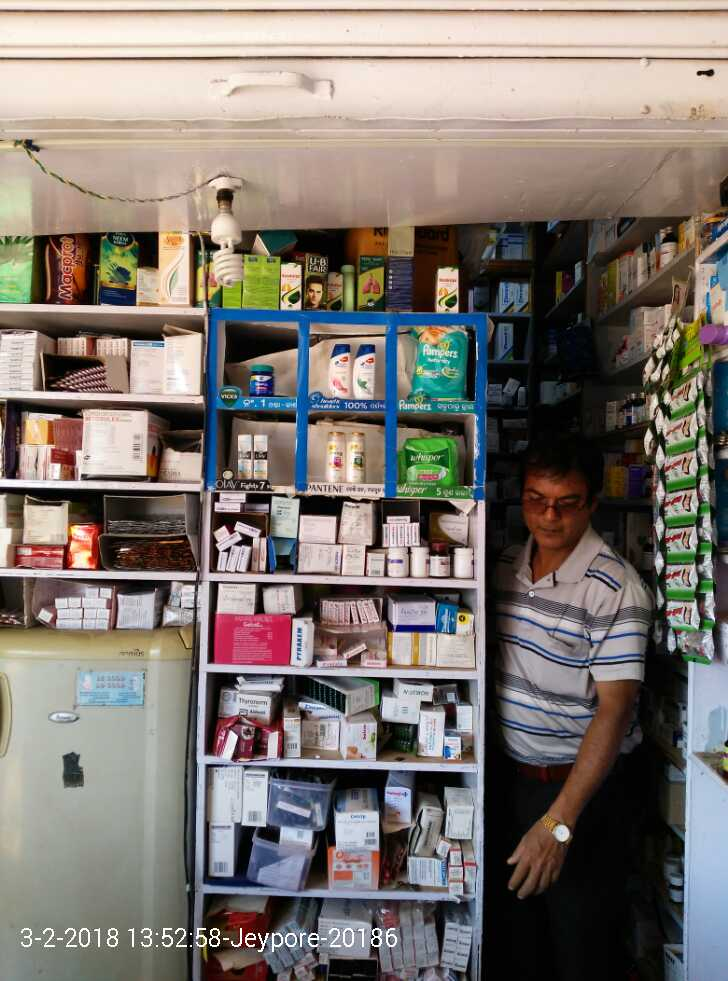vicks: (241, 356, 280, 399)
